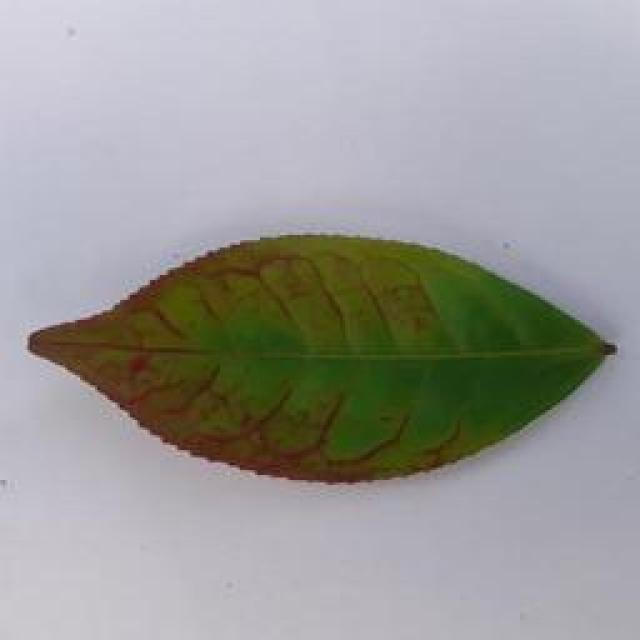Red Leaf Spot: (19, 212, 632, 501)
